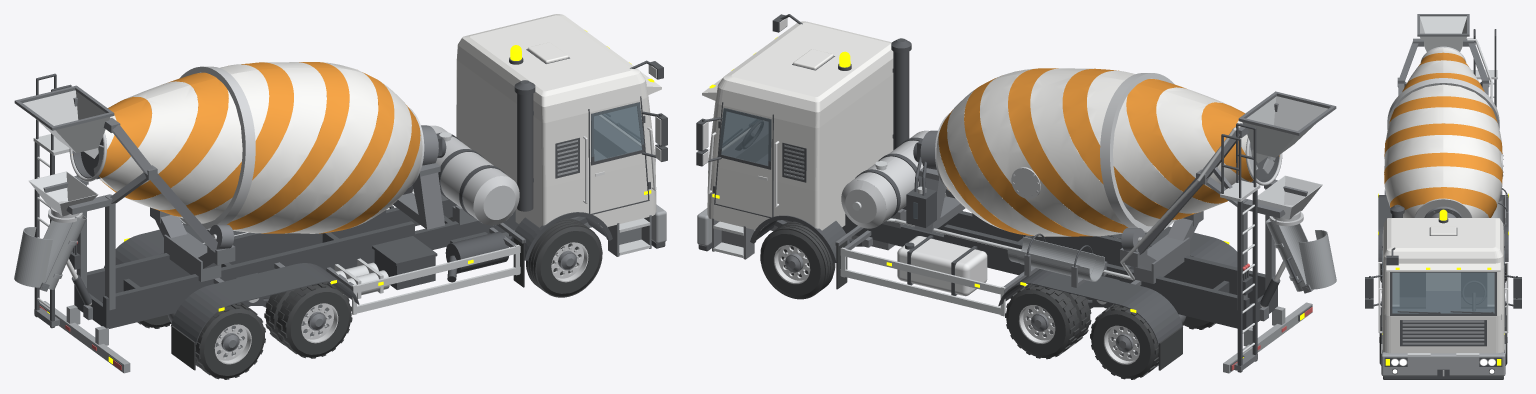
File: Concrete_Mixer_Truck_8m3.glb
3 renders of one model, left to right at view 1: azimuth 30°, elevation 25°; view 2: azimuth 150°, elevation 25°; view 3: azimuth 270°, elevation 25°, orthographic. The views are drawn at different scales.
Visible parts, largest first — view 1: cab, tie_rod, drum_band_2, hub_front_L, tyre_front_L, step_treads, wheel_nuts_front_L, spare_chutes, cab_side_vent_slats, windscreen, rim_front_L, door_handle; view 2: cab, tie_rod, drum_band_2, hub_front_L, tyre_front_L, step_treads, wheel_nuts_front_L, spare_chutes, door_handle, windscreen, cab_side_vent_slats, rim_front_L; view 3: cab, tie_rod, drum_band_2, windscreen, cab_side_vent_slats, hub_front_L, step_treads, wheel_nuts_front_L, door_handle, tyre_front_L, side_repeater, spare_chutes (+1 smaller).
Part boxes in pixels (bbox=[...]): cab: bbox=[99, 14, 661, 233]; tie_rod: bbox=[34, 49, 667, 370]; drum_band_2: bbox=[72, 62, 420, 233]; hub_front_L: bbox=[14, 85, 655, 357]; tyre_front_L: bbox=[102, 217, 602, 379]; step_treads: bbox=[23, 90, 650, 314]; wheel_nuts_front_L: bbox=[48, 66, 579, 355]; spare_chutes: bbox=[14, 215, 187, 289]; cab_side_vent_slats: bbox=[39, 140, 666, 373]; windscreen: bbox=[591, 102, 643, 161]; rim_front_L: bbox=[214, 242, 588, 364]; door_handle: bbox=[66, 65, 661, 306]; cab: bbox=[702, 21, 1253, 236]; tie_rod: bbox=[696, 14, 1312, 372]; drum_band_2: bbox=[938, 68, 1279, 236]; hub_front_L: bbox=[708, 91, 1336, 371]; tyre_front_L: bbox=[760, 221, 1250, 379]; step_treads: bbox=[713, 96, 1327, 352]; wheel_nuts_front_L: bbox=[782, 73, 1303, 355]; spare_chutes: bbox=[1007, 218, 1336, 291]; door_handle: bbox=[702, 18, 1285, 307]; windscreen: bbox=[719, 108, 917, 218]; cab_side_vent_slats: bbox=[697, 143, 1312, 373]; rim_front_L: bbox=[774, 245, 1139, 364]; cab: bbox=[1382, 47, 1504, 353]; tie_rod: bbox=[1365, 29, 1521, 379]; drum_band_2: bbox=[1384, 52, 1502, 217]; windscreen: bbox=[1382, 251, 1504, 313]; cab_side_vent_slats: bbox=[1381, 189, 1505, 376]; hub_front_L: bbox=[1379, 14, 1508, 352]; step_treads: bbox=[1381, 16, 1505, 355]; wheel_nuts_front_L: bbox=[1387, 46, 1503, 376]; door_handle: bbox=[1378, 262, 1508, 365]; tyre_front_L: bbox=[1379, 263, 1507, 365]; side_repeater: bbox=[1378, 193, 1508, 365]; spare_chutes: bbox=[1491, 190, 1505, 226].
Size of the model in its own units: 189 by 80.15 by 61.41.
